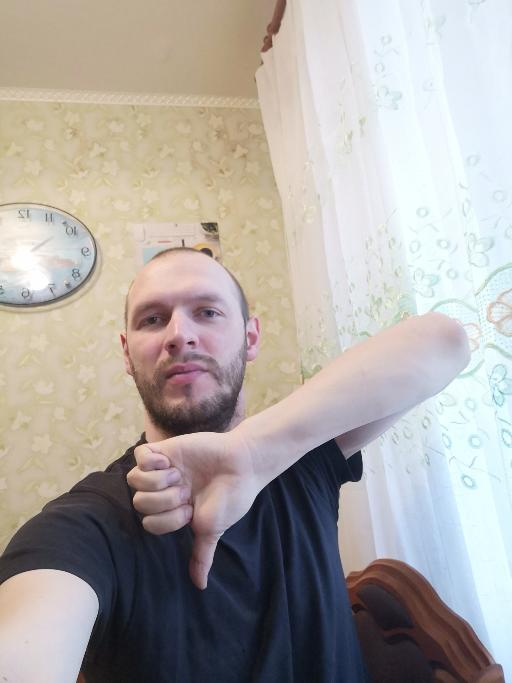dislike: (122, 427, 258, 594)
